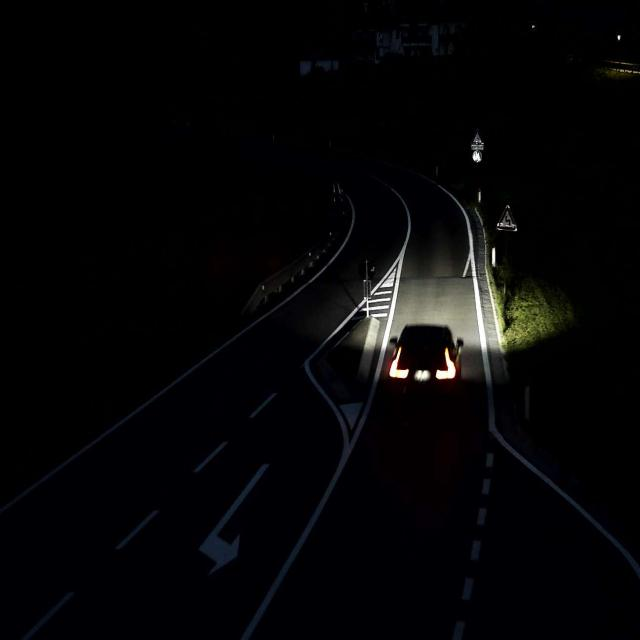car: (388, 322, 463, 396)
